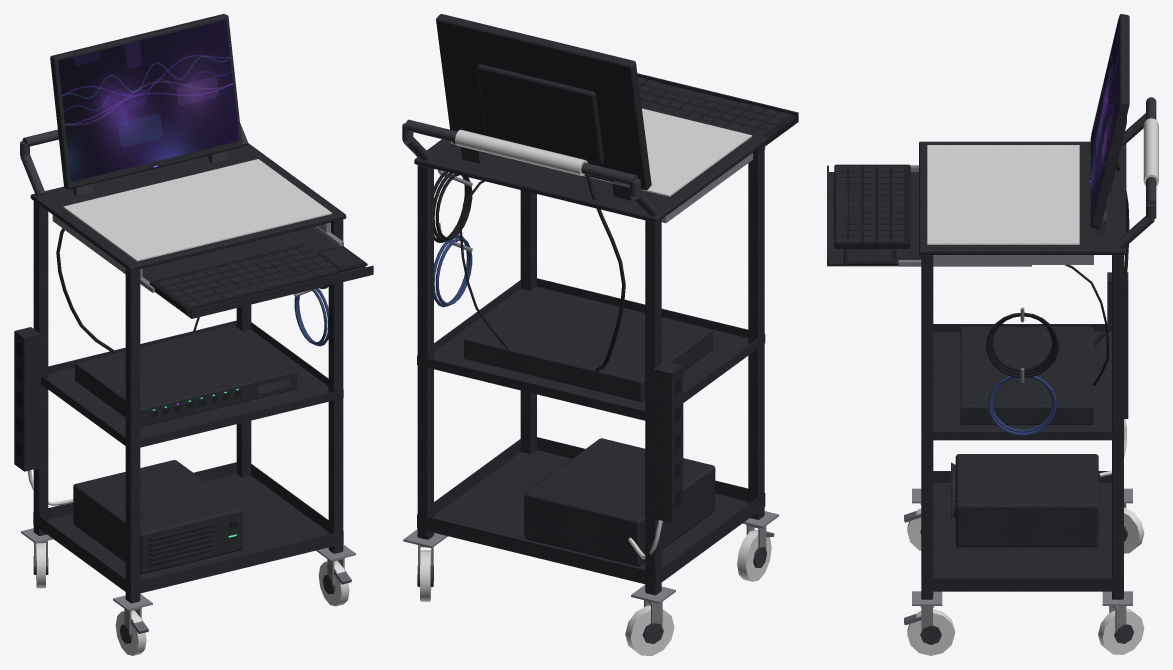
File: crash_cart.glb
3 renders of one model, left to right at view 1: azimuth 30°, elevation 25°; view 2: azimuth 150°, elevation 25°; view 3: azimuth 270°, elevation 25°, orthographic. The views are drawn at different scales.
Parts seen in each view (by area): view 1: frame_graphite_0, monitor_glass_screen_0, frame_rubber_1, kvm_graphite_0, ups_graphite_0, keyboard_tray_graphite_0, monitor_graphite_0, keyboard_tray_plastic_dark_2, cables_graphite_3, ups_plastic_dark_1, cables_plastic_dark_1, frame_alloy_dark_2 (+6 smaller); view 2: frame_graphite_0, kvm_graphite_0, monitor_graphite_0, ups_graphite_0, monitor_graphite_1, frame_rubber_1, cables_graphite_3, keyboard_tray_graphite_0, cables_plastic_dark_1, frame_alloy_dark_2, keyboard_tray_plastic_dark_2, caster_4_rubber_1 (+6 smaller); view 3: frame_graphite_0, frame_rubber_1, ups_graphite_0, kvm_graphite_0, keyboard_tray_graphite_0, keyboard_tray_plastic_dark_2, monitor_graphite_0, monitor_glass_screen_0, cables_plastic_dark_1, frame_steel_brushed_3, frame_alloy_dark_2, caster_1_rubber_1 (+6 smaller).
Boxes of the visible parts, box(x1,y1,x2,y2) form: frame_graphite_0: box(30, 143, 346, 603); monitor_glass_screen_0: box(58, 19, 239, 181); frame_rubber_1: box(63, 159, 331, 261); kvm_graphite_0: box(75, 325, 297, 427); ups_graphite_0: box(73, 460, 243, 574); keyboard_tray_graphite_0: box(142, 227, 373, 318); monitor_graphite_0: box(50, 14, 242, 189); keyboard_tray_plastic_dark_2: box(149, 244, 367, 313); cables_graphite_3: box(14, 327, 40, 471); ups_plastic_dark_1: box(149, 520, 237, 566); cables_plastic_dark_1: box(16, 228, 328, 457); frame_alloy_dark_2: box(20, 123, 248, 195); frame_graphite_0: box(414, 106, 767, 595); kvm_graphite_0: box(464, 287, 713, 401); monitor_graphite_0: box(436, 14, 651, 190); ups_graphite_0: box(524, 438, 715, 566); monitor_graphite_1: box(477, 64, 604, 164); frame_rubber_1: box(451, 108, 751, 196); cables_graphite_3: box(653, 361, 683, 522); keyboard_tray_graphite_0: box(637, 73, 798, 145); cables_plastic_dark_1: box(434, 171, 680, 506); frame_alloy_dark_2: box(402, 119, 658, 216); keyboard_tray_plastic_dark_2: box(638, 80, 796, 145); caster_4_rubber_1: box(625, 605, 674, 655); frame_graphite_0: box(919, 141, 1126, 599); frame_rubber_1: box(927, 118, 1158, 244); ups_graphite_0: box(951, 454, 1098, 547); kvm_graphite_0: box(960, 326, 1093, 424); keyboard_tray_graphite_0: box(827, 165, 921, 266); keyboard_tray_plastic_dark_2: box(834, 164, 910, 264); monitor_graphite_0: box(1090, 14, 1129, 228); monitor_glass_screen_0: box(1091, 18, 1118, 218); cables_plastic_dark_1: box(986, 163, 1129, 385); frame_steel_brushed_3: box(933, 255, 1093, 264); frame_alloy_dark_2: box(1114, 97, 1156, 248); caster_1_rubber_1: box(907, 609, 954, 655).
Size of what is drawn, in the model's own units: 0.6558 by 1.26 by 0.696.
12 materials, 9 textured.
